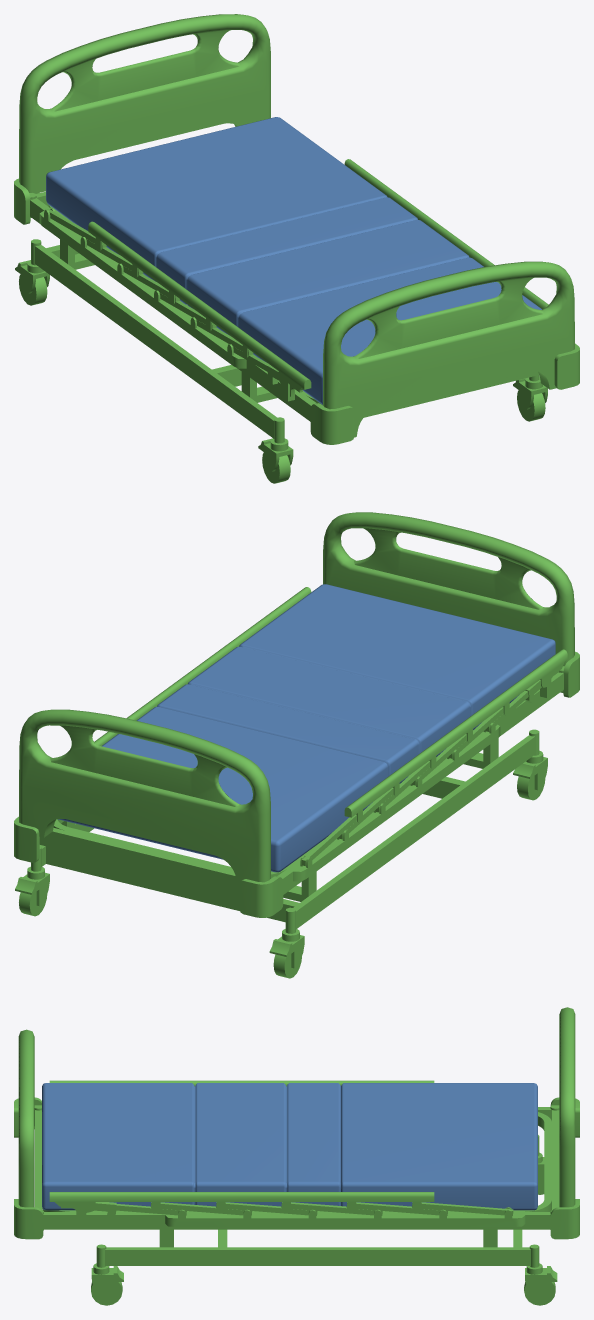
File: SM_HospitalBed_02b.FBX
3 views of the same model, one above another, from view 1: azimuth 30°, elevation 25°; view 2: azimuth 150°, elevation 25°; view 3: azimuth 270°, elevation 25° (orthographic). The views are drawn at different scales.
Parts seen in each view (by area): view 1: SM_HospitalBed_02b_LOD0; view 2: SM_HospitalBed_02b_LOD0; view 3: SM_HospitalBed_02b_LOD0.
Boxes of the visible parts, x1,y1,x2,y2 form: SM_HospitalBed_02b_LOD0: (14,14,579,483); SM_HospitalBed_02b_LOD0: (14,512,579,978); SM_HospitalBed_02b_LOD0: (14,1007,579,1305).
Size of what is drawn, in the model's own units: 109 by 89.09 by 221.
